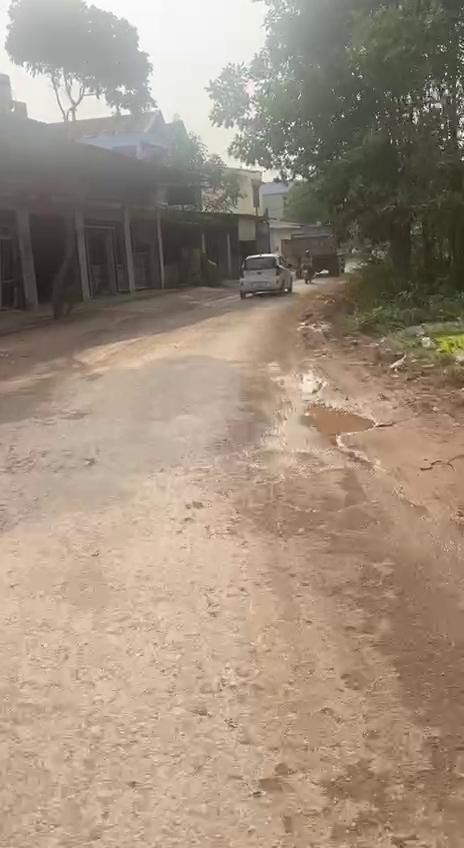pothole: (300, 398, 382, 472)
